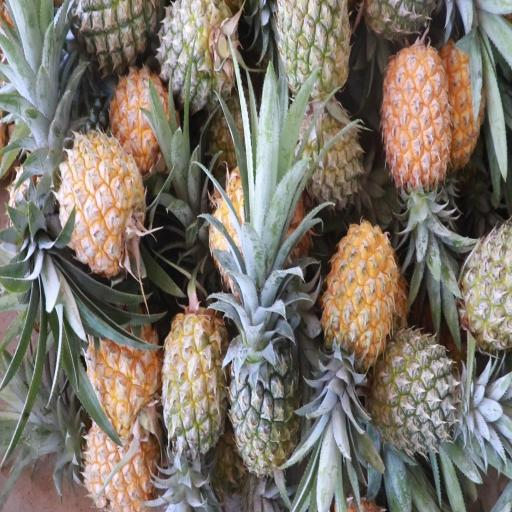------------------------------: (162, 310, 226, 482)
Pineapple - v8 v1: (323, 224, 394, 452), (383, 48, 450, 276), (56, 148, 156, 282), (82, 315, 163, 448), (111, 76, 187, 189), (439, 36, 488, 182), (82, 423, 158, 512)
